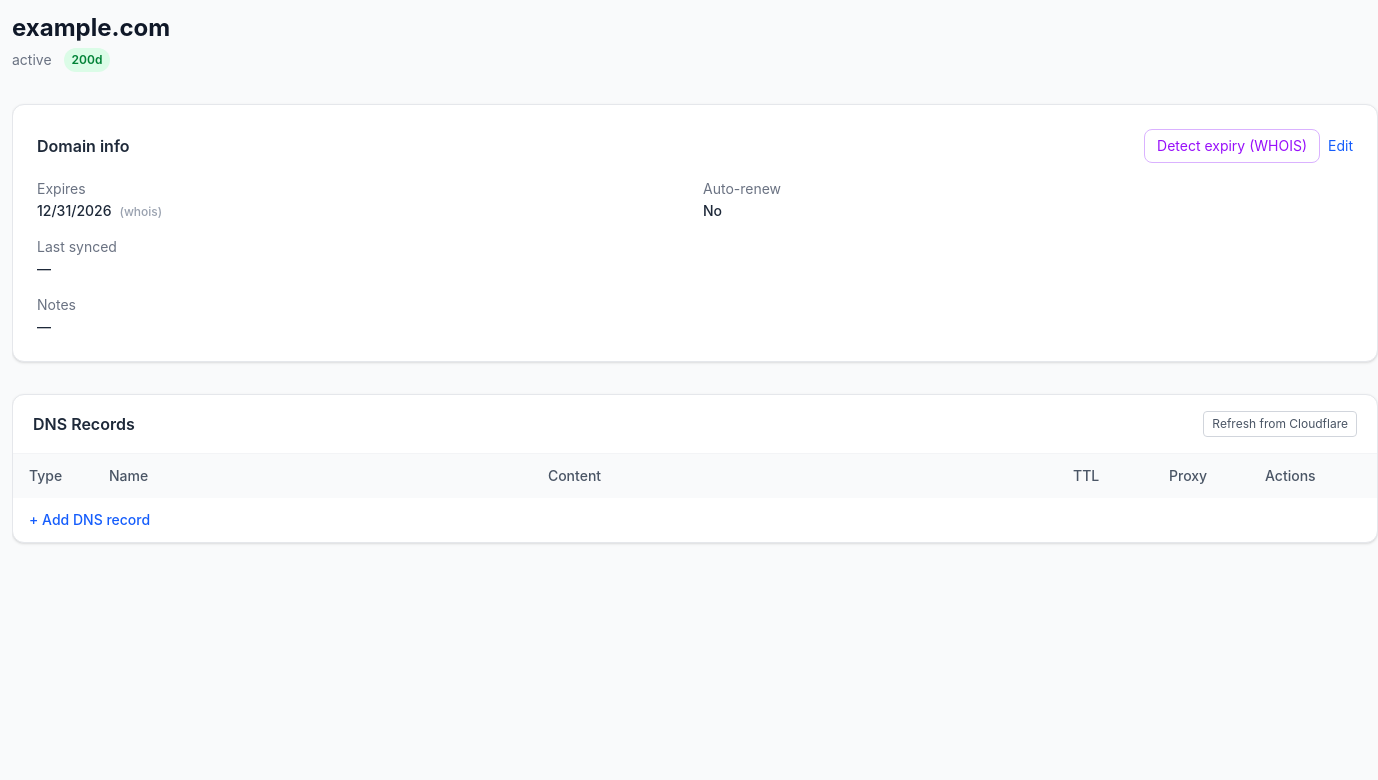
Test case: DomainDetail — WHOIS › shows loading state while WHOIS request is in flight
The image size is (1378, 780).
Click the button "Detect expiry (WHOIS)". click: (1232,146)
box: [1144,129,1320,163]
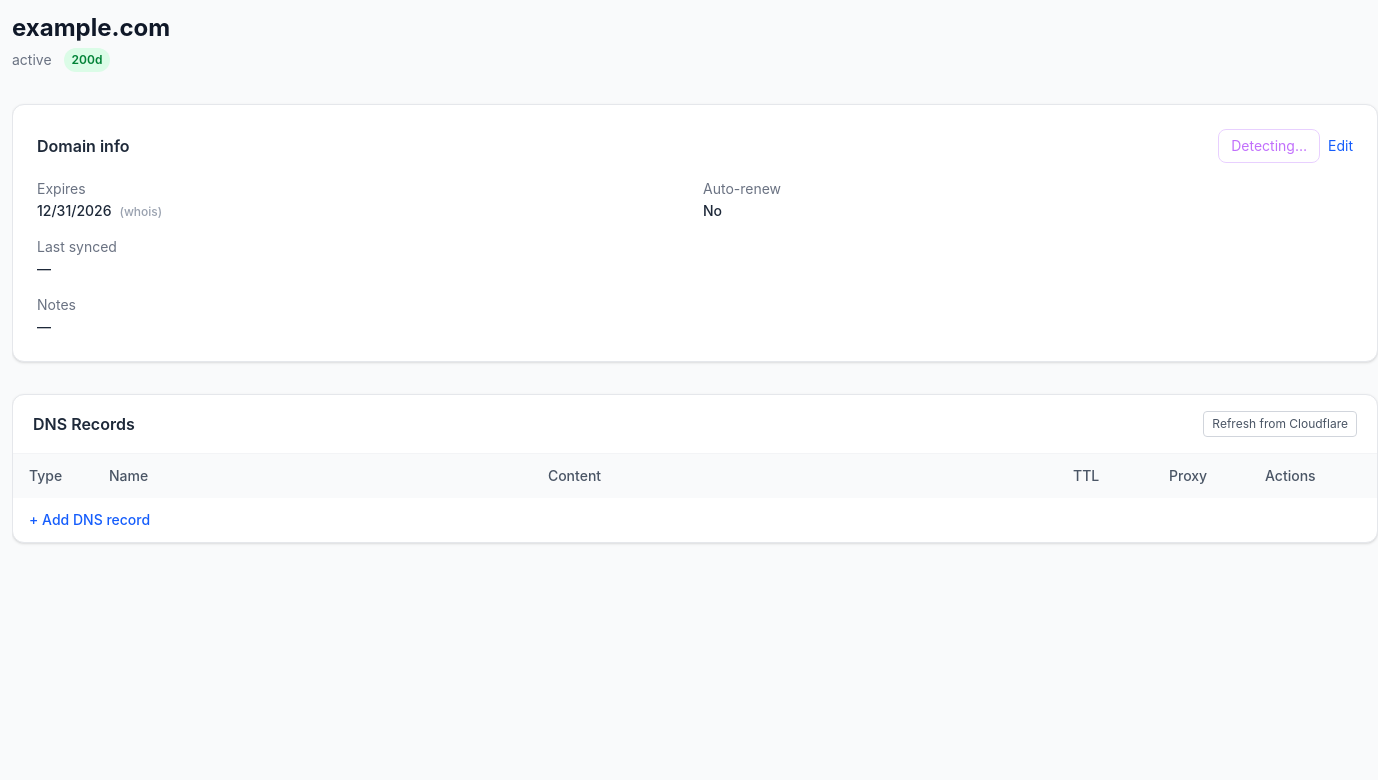
Check: the button "Detecting…" is disabled, box [1218,129,1320,163]
